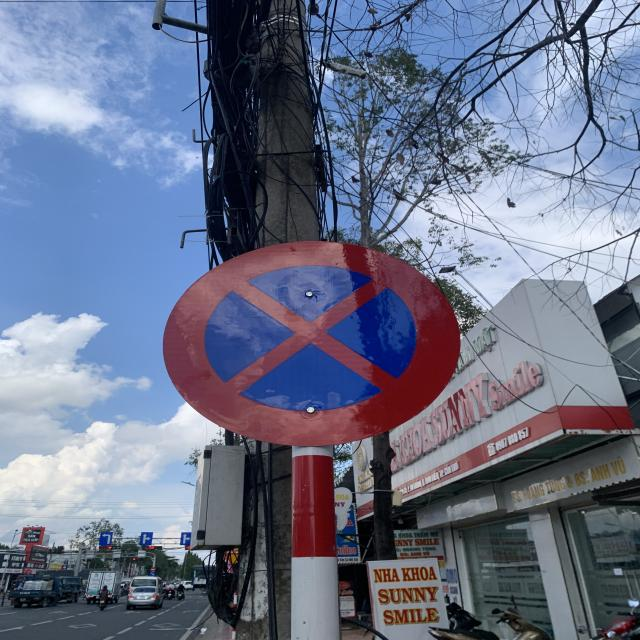Cam_Dung_Va_Dau_Xe: (162, 238, 459, 450)
